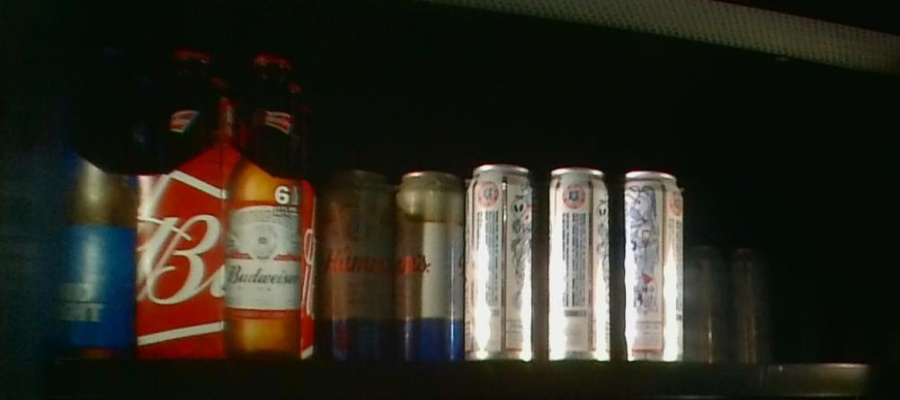bottle: (138, 49, 320, 360), (5, 46, 134, 360), (473, 165, 682, 357), (319, 165, 464, 355), (683, 240, 780, 365)
